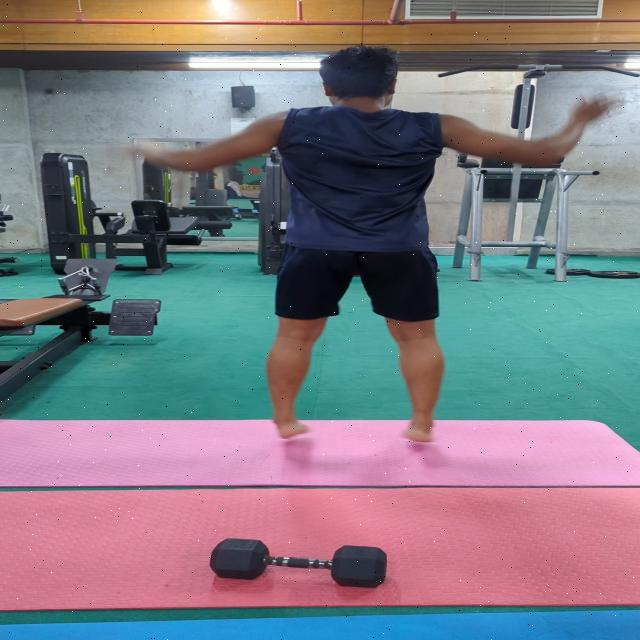Normal_JumpingJacks: (65, 65, 610, 449)
